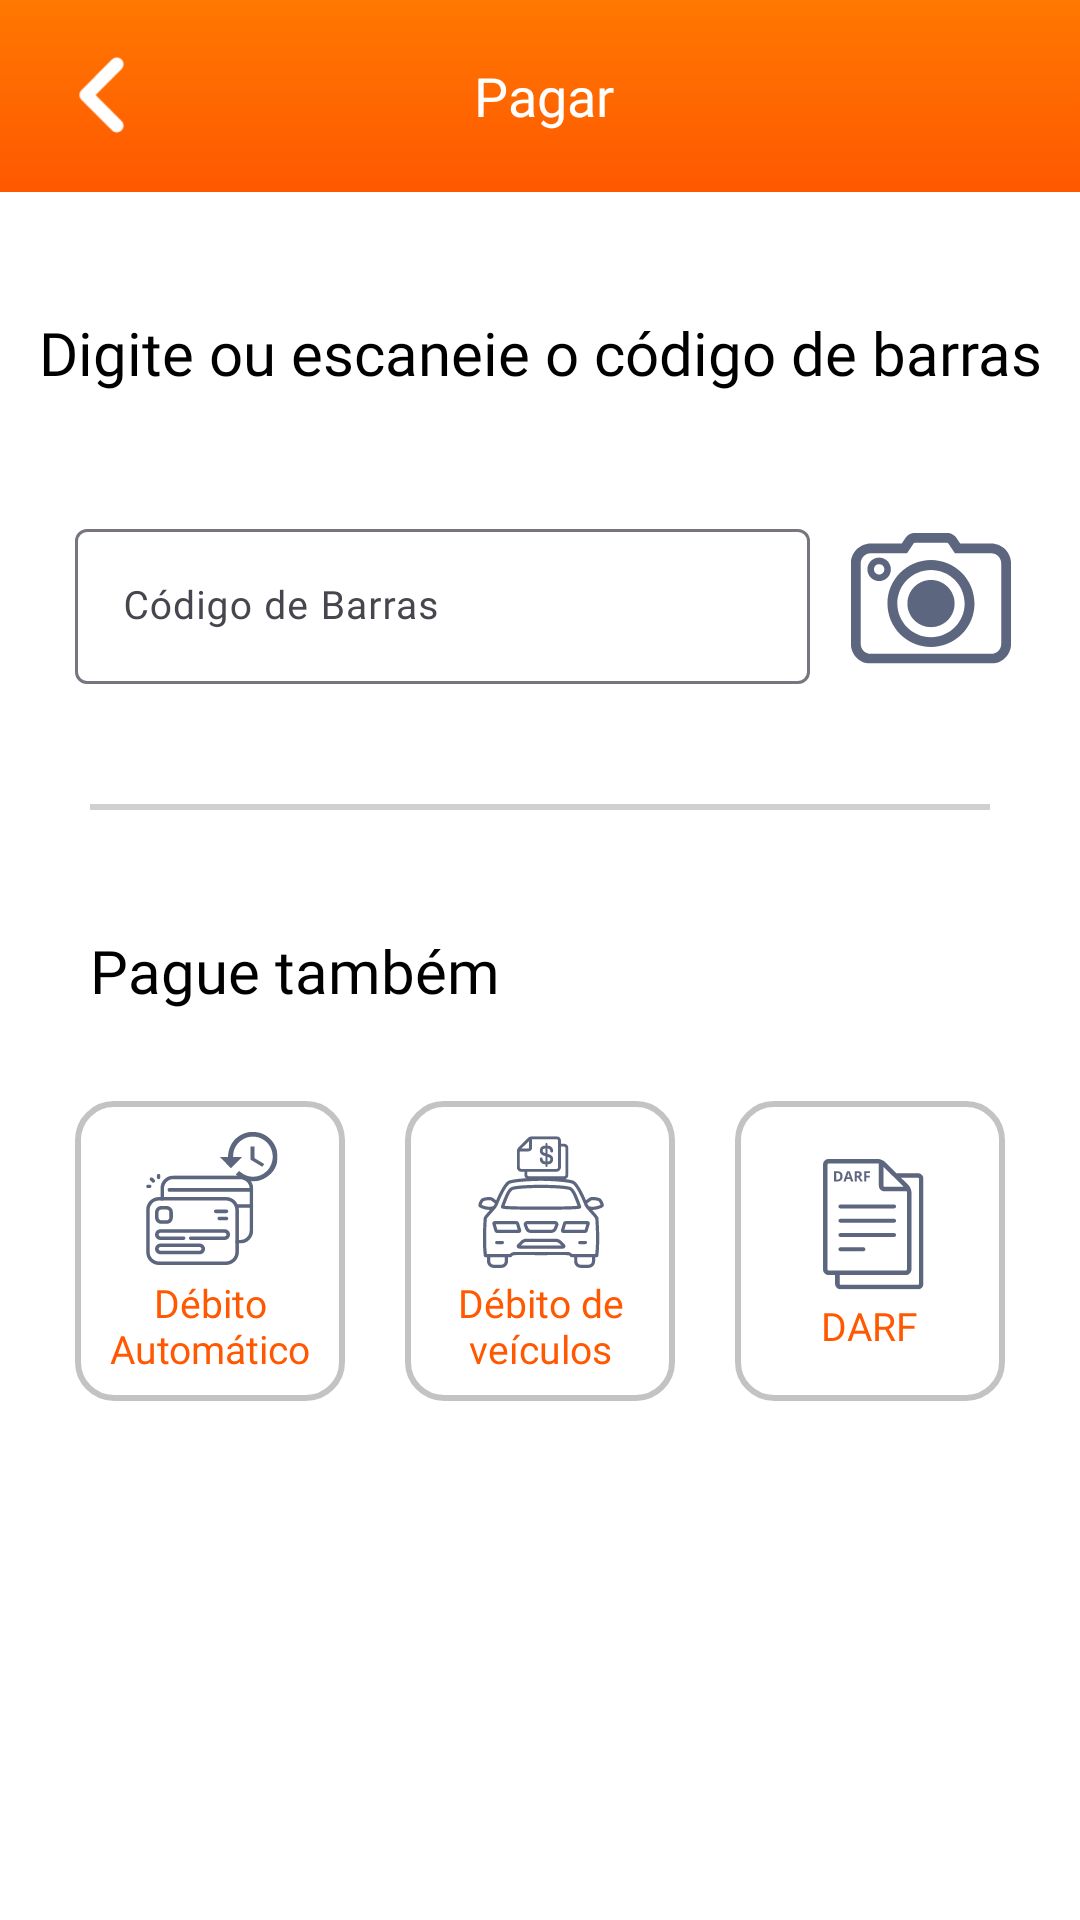

Named icons in this screenshot (1080x1920) and their centers, (x=x, y=y):
Seta de voltar: (x=102, y=109)
Ícone de camera, abre a camera pra ler um QR code: (x=931, y=598)
